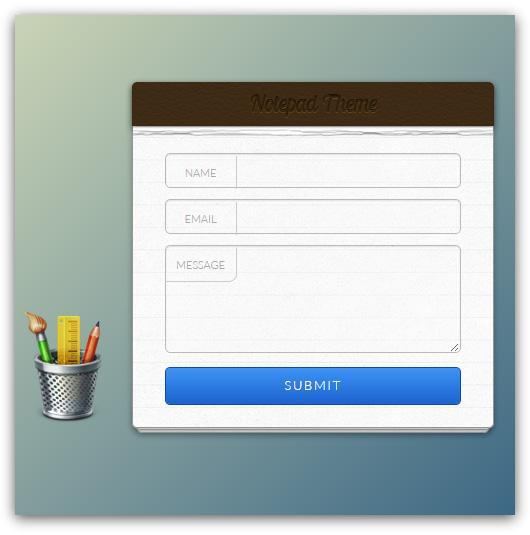button: (165, 366, 463, 408)
input: (235, 154, 464, 191), (237, 200, 465, 236)
label: (180, 212, 222, 228), (183, 167, 223, 182)
